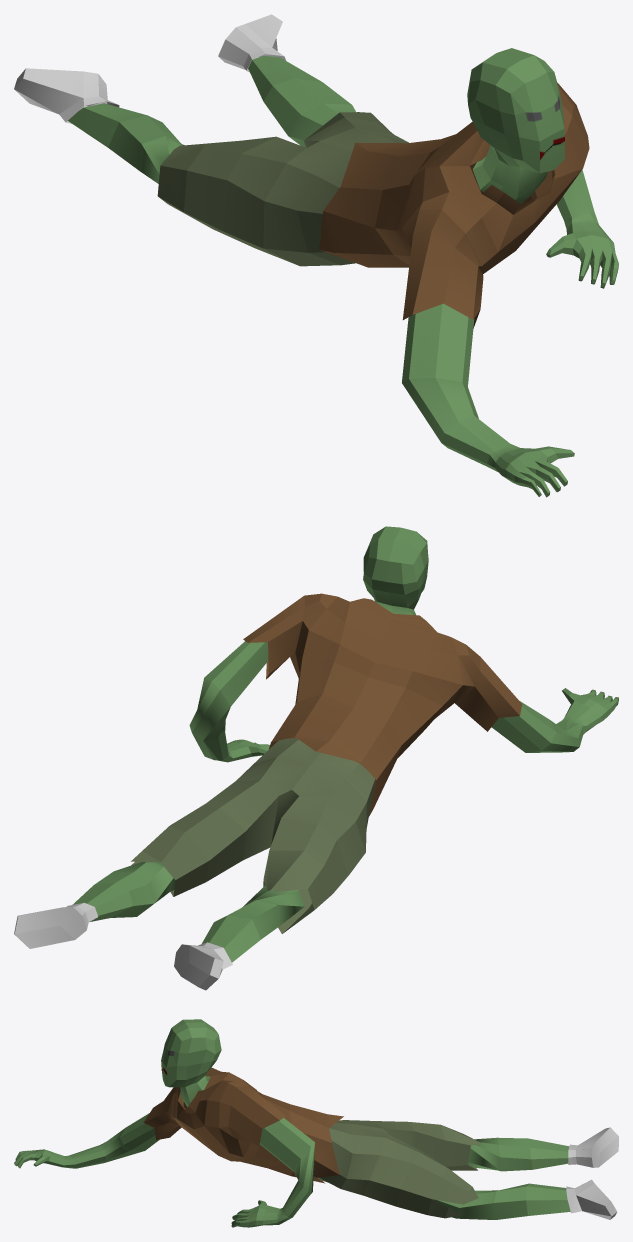
Rendered from ZombieCrawl(11).obj.
3 views of the same model, one above another, from view 1: azimuth 30°, elevation 25°; view 2: azimuth 150°, elevation 25°; view 3: azimuth 270°, elevation 25° (orthographic). The views are drawn at different scales.
Visible parts, largest first — view 1: Object001; view 2: Object001; view 3: Object001.
Boxes of the visible parts, left/top/right/bottom form: Object001: left=14, top=14, right=618, bottom=497; Object001: left=14, top=526, right=618, bottom=990; Object001: left=14, top=1019, right=618, bottom=1227.
Size of the model in its own units: 25.42 by 23.67 by 72.68.
